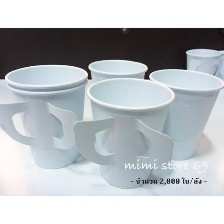paper_cup: (68, 73, 180, 192), (0, 60, 92, 173), (143, 64, 224, 164), (84, 55, 151, 103), (180, 44, 223, 86)
